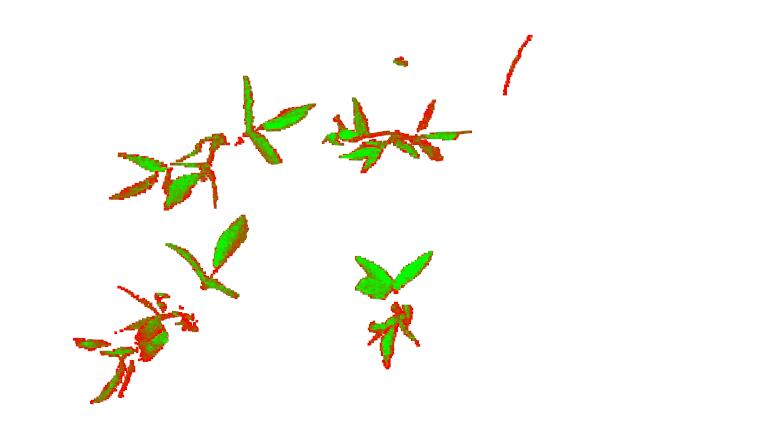mungbean: (66, 214, 251, 405), (108, 76, 318, 211), (322, 97, 476, 178), (353, 251, 434, 371)
